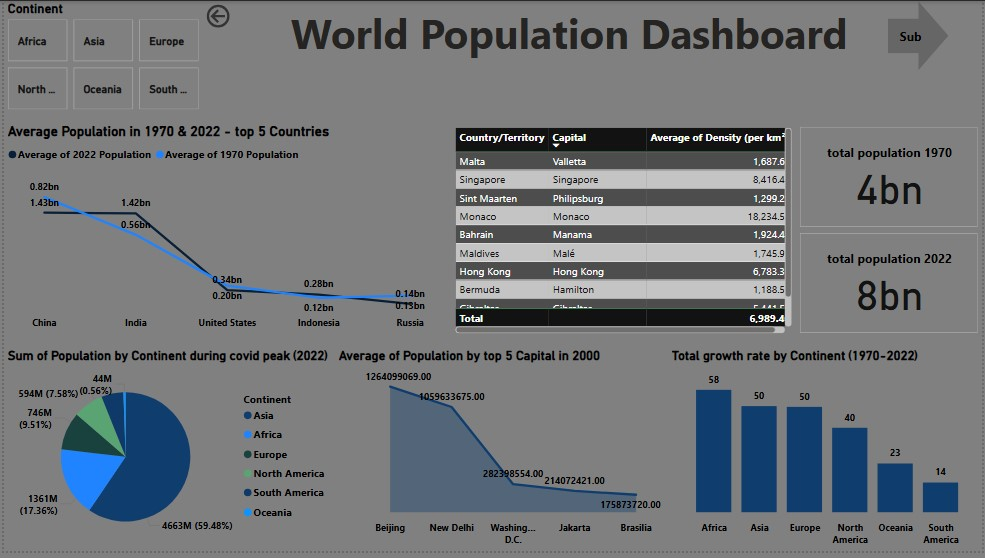

Layout of this report page (visuals, bound fields, positions):
{"tool":"powerbi","page":{"name":"Main","canvas":[1280,720],"ordinal":0},"visuals":[{"type":"columnChart","title":"Total growth rate by Continent (1970-2022)","fields":{"Y":["Sum(world_population.Growth Rate)"],"Category":["world_population.Continent"]},"box":[869.9,454,410,266],"z":0},{"type":"lineChart","title":"Average Population in 1970 & 2022 - top 5 Countries","fields":{"Y":["Avg(world_population.2022 Population)"],"Category":["world_population.Country/Territory"],"Y2":["Avg(world_population.1970 Population)"]},"box":[0,159.6,584.6,280.5],"z":1000},{"type":"pieChart","title":"Sum of Population by Continent during covid peak (2022)","fields":{"Category":["world_population.Continent"],"Y":["Sum(world_population.2020 Population)"]},"box":[0,454,433.5,266],"z":2000},{"type":"cardVisual","fields":{"Data":["world_population.total population 1970","world_population.total population 2022"]},"box":[1036.4,159.6,243.6,280.5],"z":3000},{"type":"areaChart","title":"Average of Population by top 5 Capital in 2000","fields":{"Category":["world_population.Capital"],"Y":["Avg(world_population.2000 Population)"]},"box":[433.5,454,436.4,266],"z":4000},{"type":"advancedSlicerVisual","fields":{"Values":["world_population.Continent"]},"box":[0,0,260.4,147.8],"z":5000},{"type":"tableEx","fields":{"Values":["world_population.Country/Territory","world_population.Capital","Avg(world_population.Density (per km²))"]},"box":[584.8,161.6,451.1,279.2],"z":6000},{"type":"textbox","box":[360,0,759.7,89.6],"z":7000},{"type":"actionButton","box":[260.1,0,99.9,39.7],"z":8000},{"type":"shape","box":[1157.9,0,79.3,91.1],"z":9000}]}

Visuals, with their boxes in screenshot pixels (x1, y1, x2, y2), scaled from the page's 1280x720 canvas onto the 985x558 screenshot:
"Total growth rate by Continent (1970-2022)" columnChart: bbox=(669, 352, 984, 557)
"Average Population in 1970 & 2022 - top 5 Countries" lineChart: bbox=(0, 124, 450, 341)
"Sum of Population by Continent during covid peak (2022)" pieChart: bbox=(0, 352, 334, 557)
cardVisual - world_population.total population 1970 x world_population.total population 2022: bbox=(798, 124, 984, 341)
"Average of Population by top 5 Capital in 2000" areaChart: bbox=(334, 352, 669, 557)
advancedSlicerVisual - world_population.Continent: bbox=(0, 0, 200, 115)
tableEx - world_population.Country/Territory x world_population.Capital: bbox=(450, 125, 797, 342)
textbox: bbox=(277, 0, 862, 69)
actionButton: bbox=(200, 0, 277, 31)
shape: bbox=(891, 0, 952, 71)
